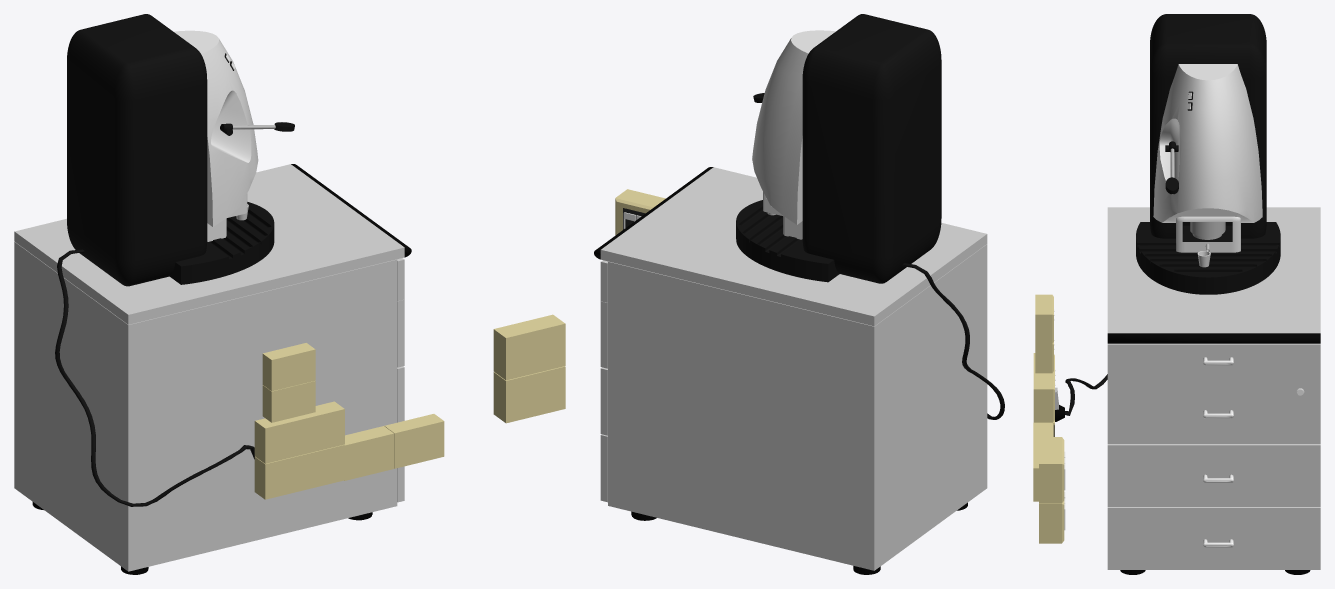
The model's file is paretedietrosezionefrog.gltf.
3 renders of one model, left to right at view 1: azimuth 30°, elevation 25°; view 2: azimuth 150°, elevation 25°; view 3: azimuth 270°, elevation 25°, orthographic. The views are drawn at different scales.
Visible parts, largest first — view 1: Frog Cassettiera, Frog Struttura.001, Parete Dietro Sezione Prese, Frog Copertura, Frog Cavo; view 2: Frog Cassettiera, Frog Struttura.001, Frog Copertura, Parete Dietro Sezione Prese, Frog Cavo; view 3: Frog Cassettiera, Frog Struttura.001, Frog Copertura, Parete Dietro Sezione Prese, Frog Struttura.003, Frog Struttura.002.
Boxes of the visible parts, left/top/right/bottom form: Frog Cassettiera: left=14, top=164, right=411, bottom=574; Frog Struttura.001: left=67, top=14, right=274, bottom=286; Parete Dietro Sezione Prese: left=254, top=314, right=565, bottom=499; Frog Copertura: left=174, top=30, right=258, bottom=226; Frog Cavo: left=55, top=249, right=254, bottom=506; Frog Cassettiera: left=594, top=167, right=987, bottom=574; Frog Struttura.001: left=736, top=14, right=941, bottom=283; Frog Copertura: left=752, top=30, right=835, bottom=224; Parete Dietro Sezione Prese: left=615, top=189, right=665, bottom=235; Frog Cavo: left=902, top=263, right=1004, bottom=419; Frog Cassettiera: left=1107, top=207, right=1320, bottom=574; Frog Struttura.001: left=1136, top=14, right=1280, bottom=294; Frog Copertura: left=1153, top=64, right=1262, bottom=222; Parete Dietro Sezione Prese: left=1033, top=294, right=1065, bottom=543; Frog Struttura.003: left=1190, top=222, right=1225, bottom=237; Frog Struttura.002: left=1165, top=141, right=1178, bottom=194.
Bounding box in the file's own units: 0.8992 × 0.9844 × 0.5595.
